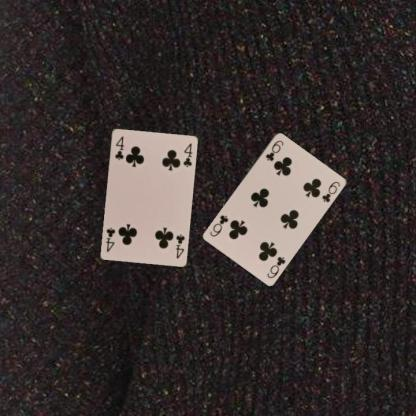4c: (112, 134, 125, 161), (173, 231, 185, 260)
6c: (264, 254, 287, 280), (263, 138, 285, 162)
